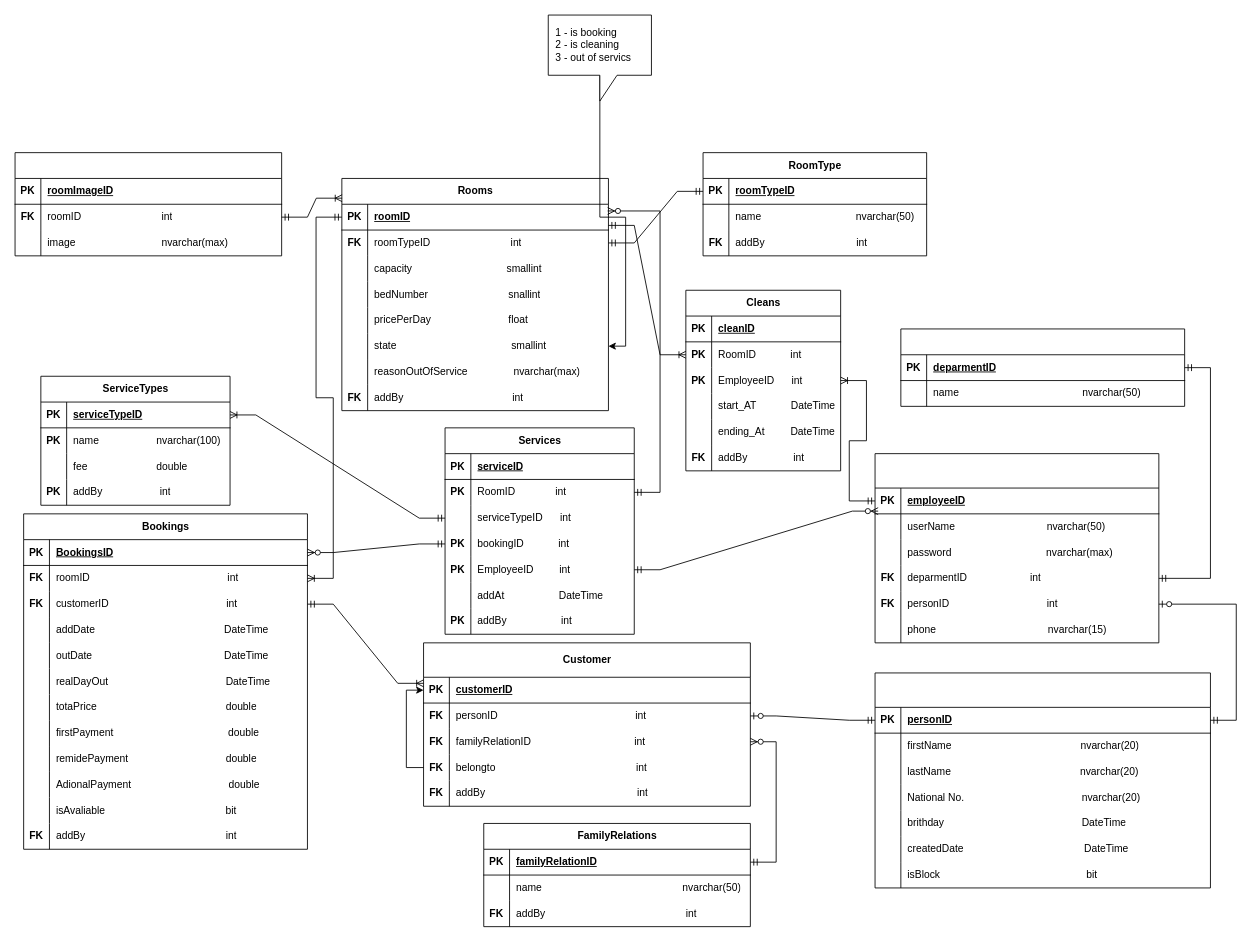
This 1259x942 diagram has some shape labels left out. Here are the shapes that lost their labels. From the top down, the box of each, then its label:
(14, 152, 282, 256): RoomImages
(900, 328, 1185, 406): Deparments
(874, 453, 1159, 643): Employees
(874, 672, 1210, 888): Peoples
